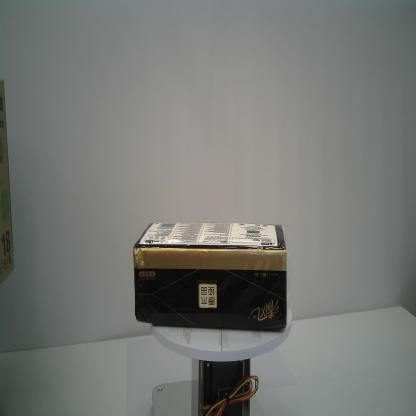Tissue: (132, 220, 289, 332)
